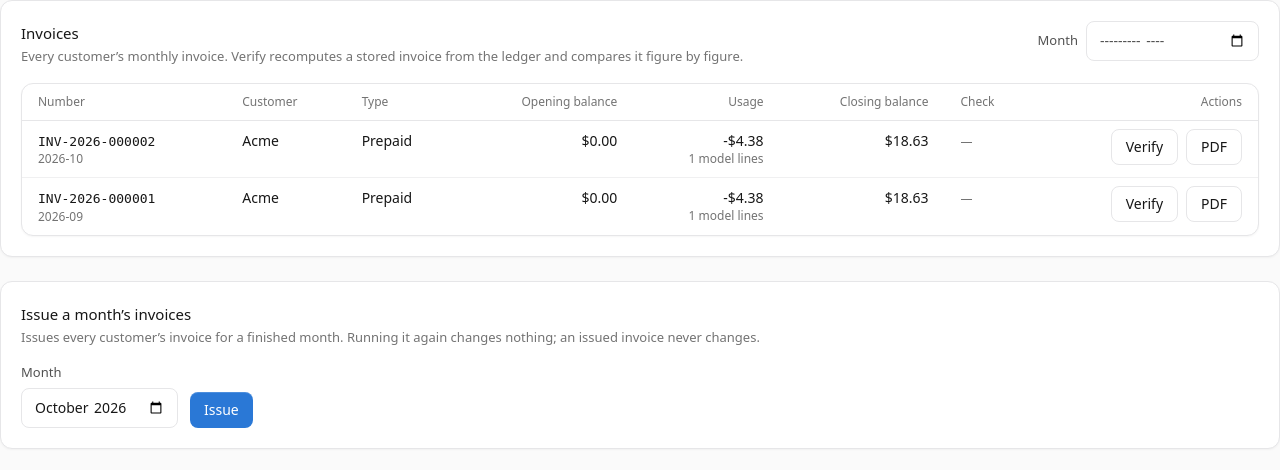
Test: billing invoices (card 25.2) › verifies an invoice against the ledger and shows what differs
Click the button with aria-label "Verify INV-2026-000002": point(1144, 146) top-left (1111, 128), bottom-right (1178, 164)
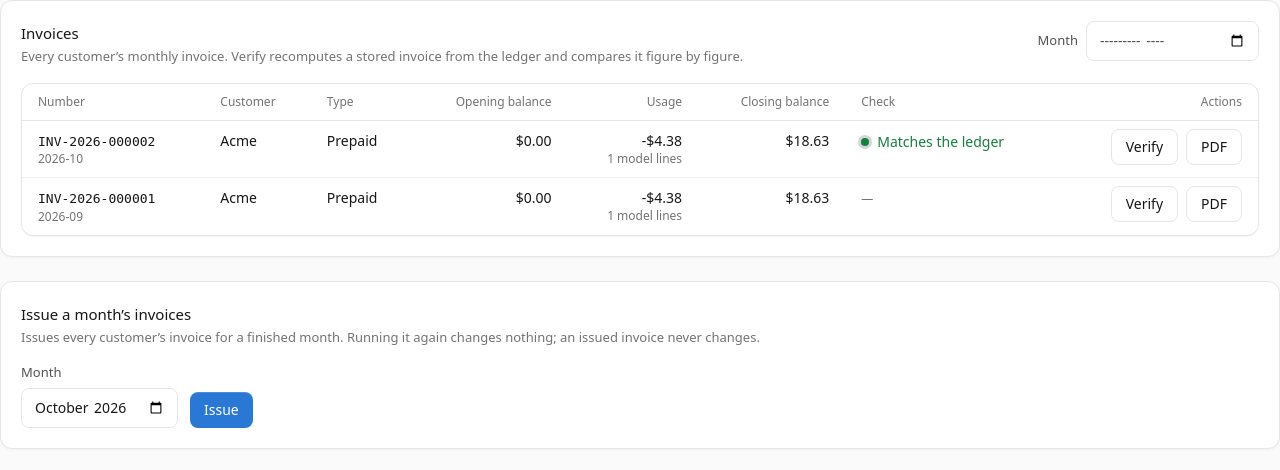
Expected: the text "Matches the ledger" is shown, top-left (877, 132), bottom-right (1004, 152)
Click the button with aria-label "Verify INV-2026-000001": point(1144, 204) top-left (1111, 186), bottom-right (1178, 222)
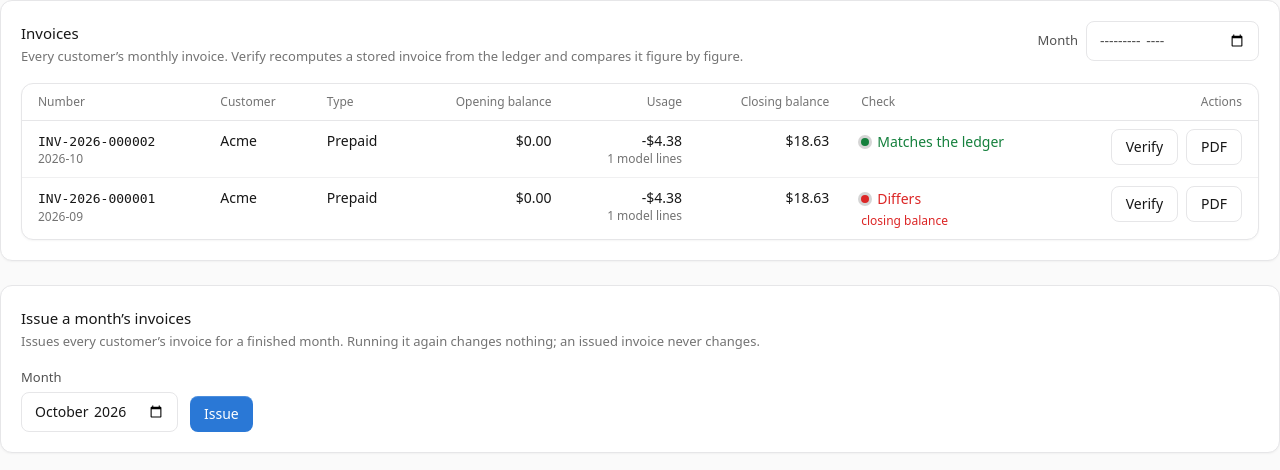
Expected: the text "closing balance" is shown, top-left (861, 212), bottom-right (948, 229)
Expected: the text "Differs" is shown, top-left (877, 189), bottom-right (921, 209)
